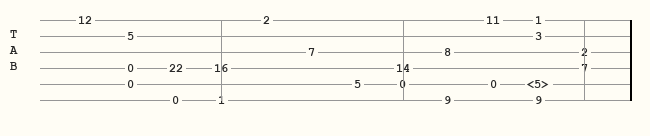0: (127, 78, 138, 90), (127, 62, 138, 74), (172, 94, 183, 106), (399, 78, 410, 90), (490, 78, 501, 90)
1: (218, 94, 229, 106), (535, 14, 546, 26)
11: (486, 14, 504, 26)
12: (78, 14, 96, 26)
14: (396, 62, 414, 74)
16: (214, 62, 232, 74)
2: (263, 14, 274, 26), (581, 46, 592, 58)
22: (169, 62, 187, 74)
3: (535, 30, 546, 42)
5: (127, 30, 138, 42), (354, 78, 365, 90)
7: (308, 46, 319, 58), (581, 62, 592, 74)
8: (444, 46, 455, 58)
9: (444, 94, 455, 106), (535, 94, 546, 106)
harmonic: (527, 78, 554, 90)
